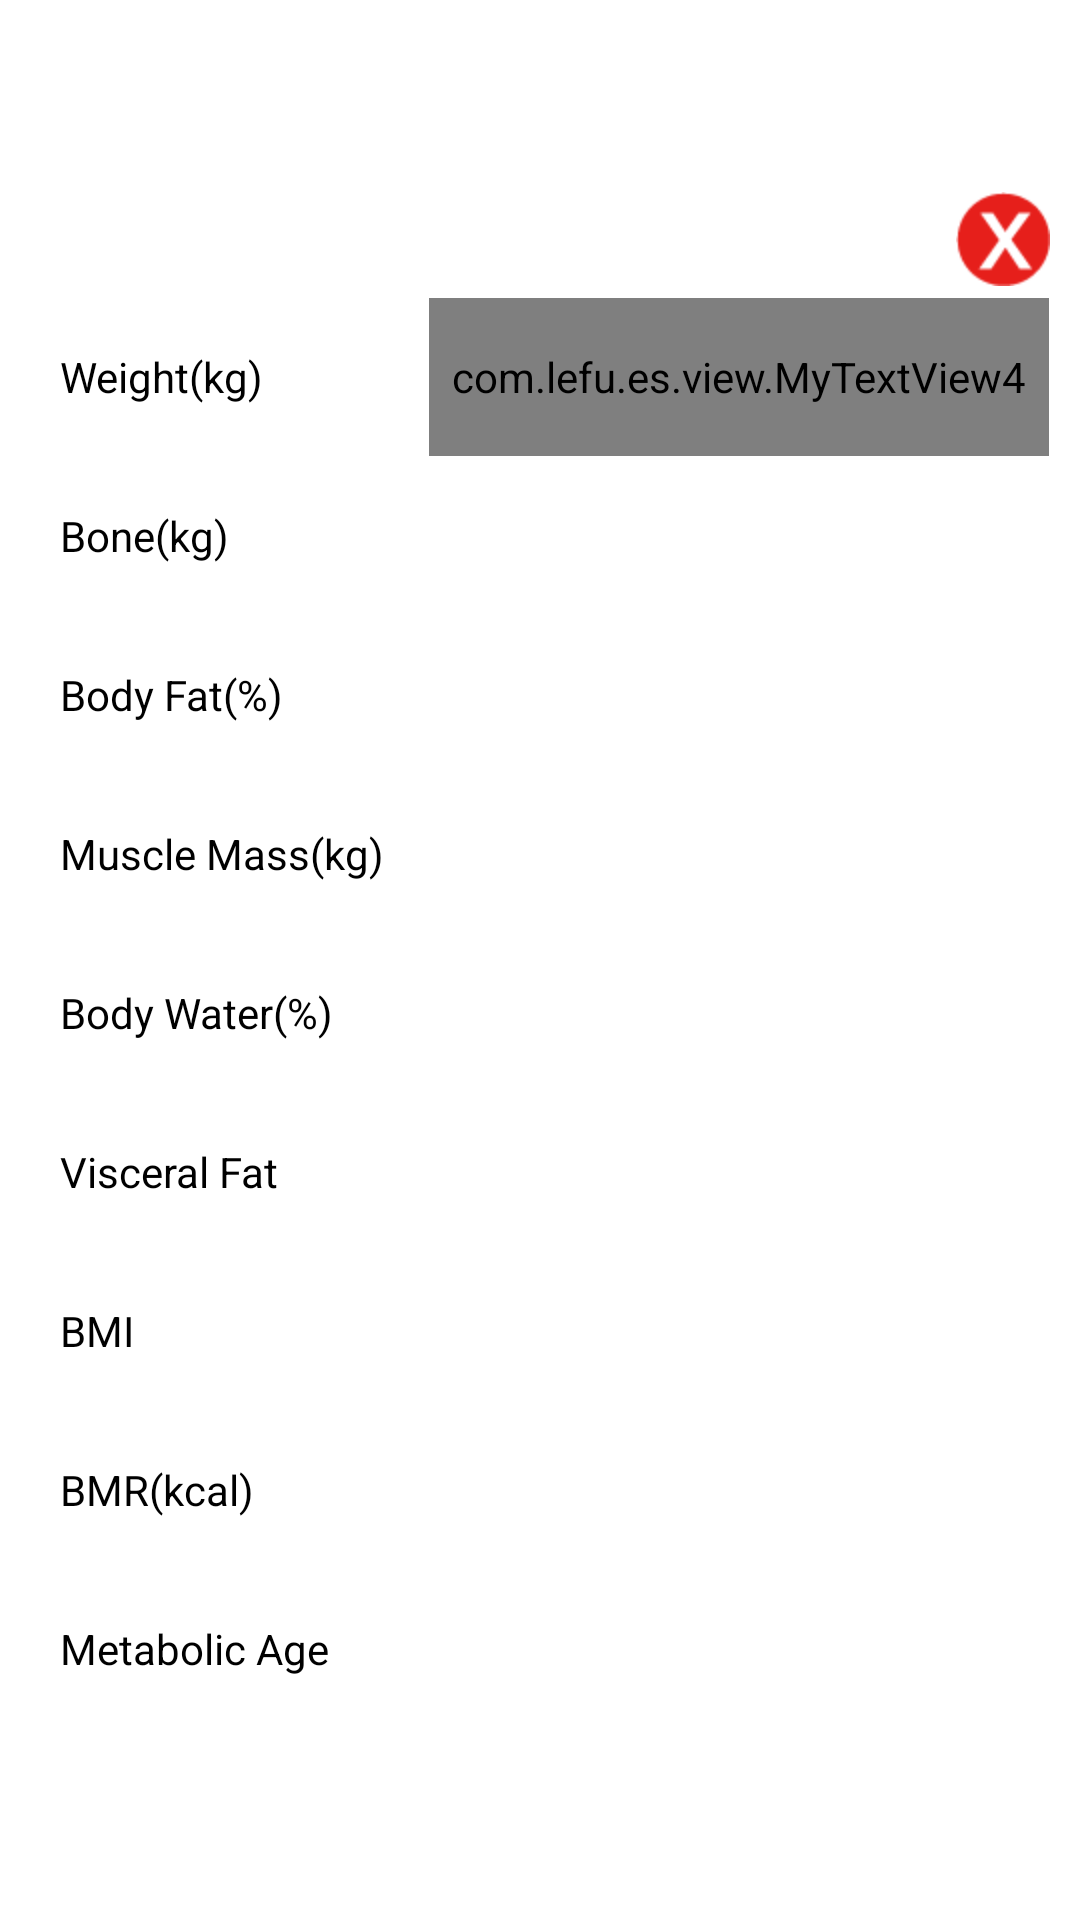

Icon bounding boxes for this 1080 x 1920 phone screenshot, format bbox(x1, y1, x2, y2):
cha: bbox(956, 192, 1050, 286)
